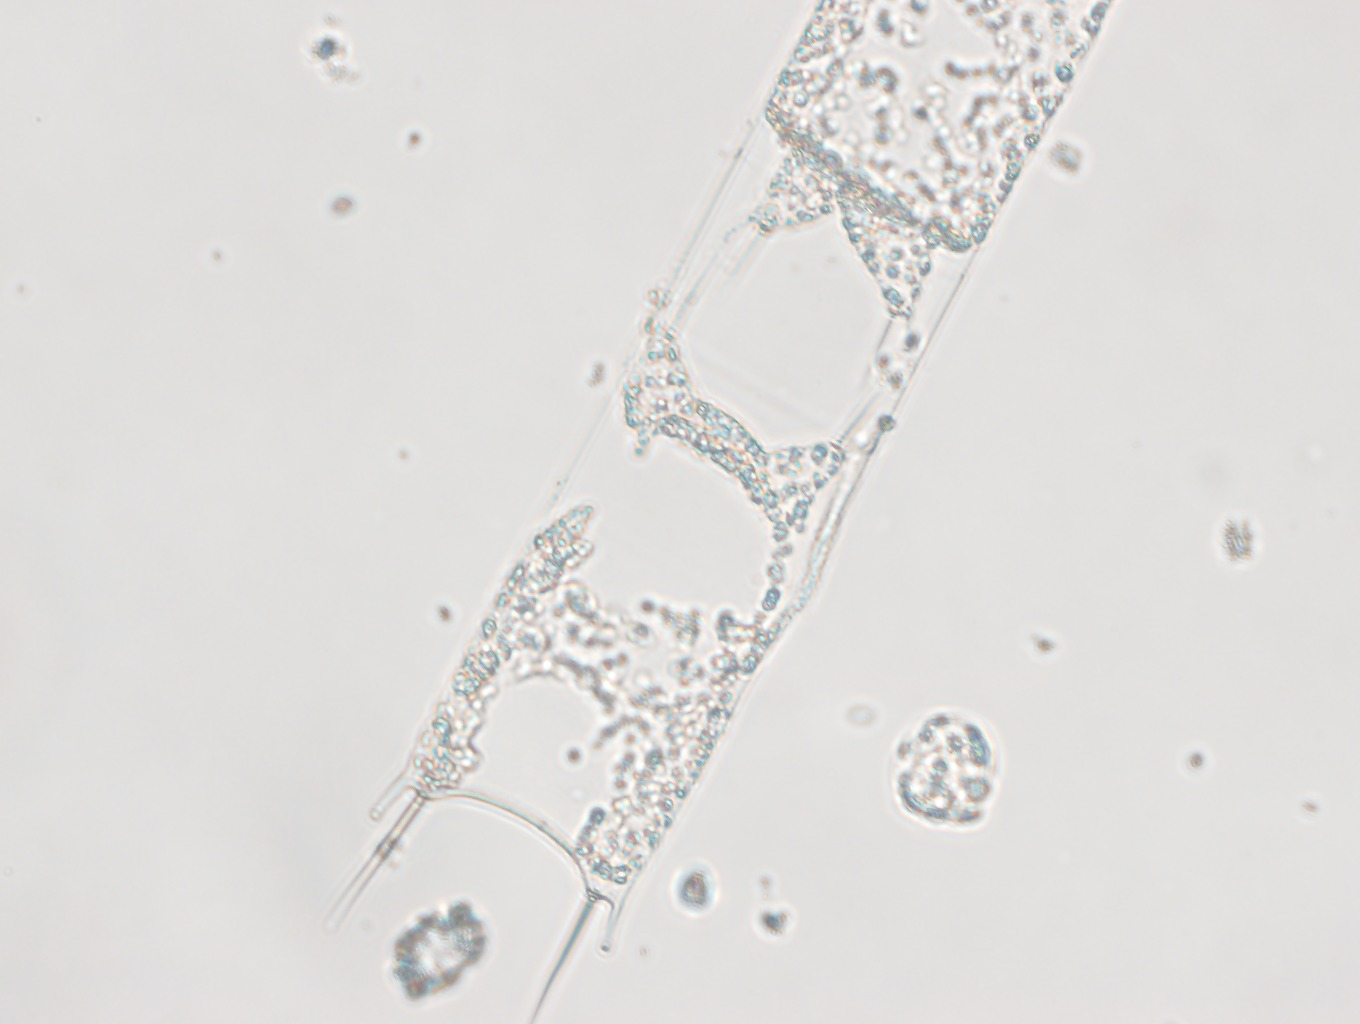biddulphia: (318, 1, 1110, 1024)
